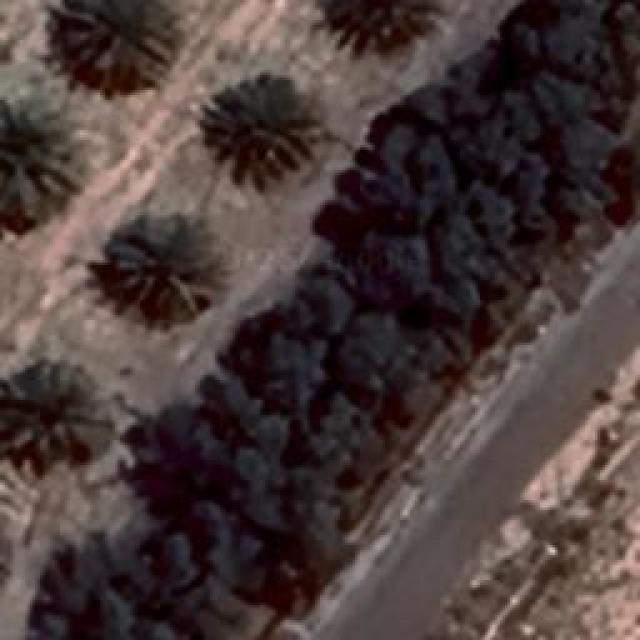PalmTree: (202, 72, 322, 190), (102, 210, 222, 322), (0, 90, 88, 228), (0, 357, 110, 465), (58, 0, 172, 80), (310, 0, 450, 63)
